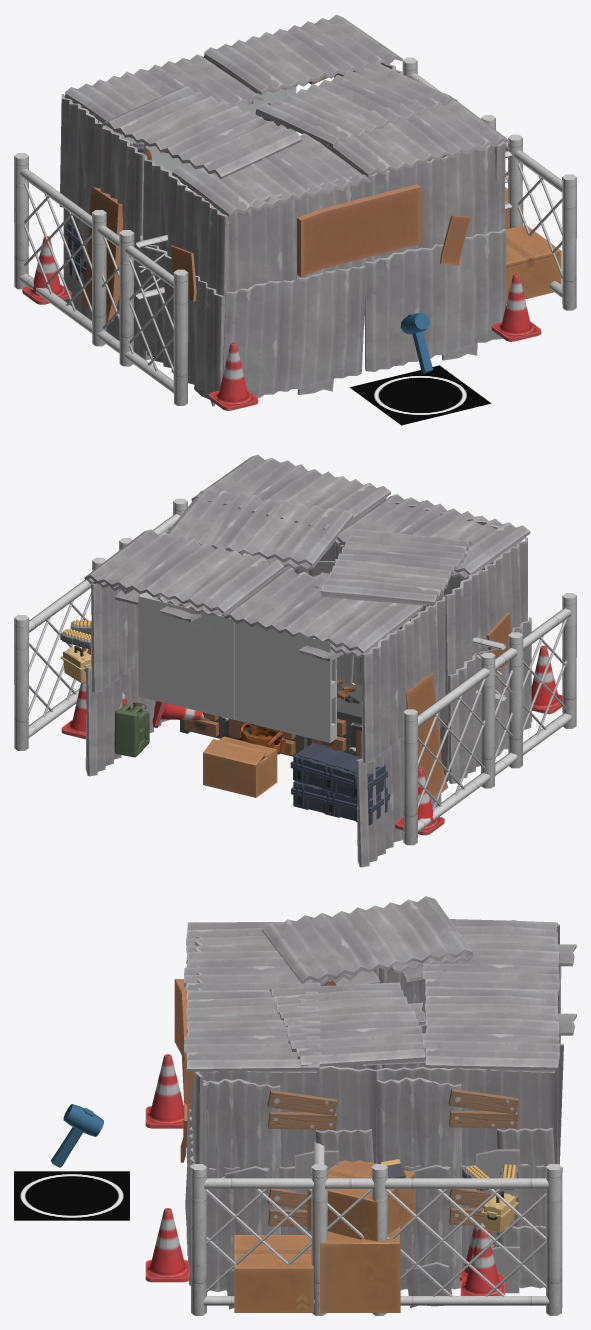
File: Merchant_Weapon.fbx
3 views of the same model, one above another, from view 1: azimuth 30°, elevation 25°; view 2: azimuth 150°, elevation 25°; view 3: azimuth 270°, elevation 25° (orthographic). The views are drawn at different scales.
Visible parts, largest first — view 1: Mat_MetalBoard_01_1, Mat_BarbedWire_01, Mat_PaperBox_02, BuildingInteractRing, Mat_Roadblocks01, Mat_PaperBox_01_01, Mat_PlasticPallet_01, EdgeLight_build, Mat_MetalBoard_01_3, ColorA Smooth; view 2: Mat_MetalBoard_01_1, Mat_BarbedWire_01, Mat_PlasticPallet_01, ColorA Smooth, Mat_PaperBox_01_01, Mat_Roadblocks01, ColorA, Mat_PaperBox_02, Mat_Indoors_Wardrobe_01, Mat_Indoors_Wardrobe_NoWood, Mat_MetalBoard_01_3, Mat_MetalBoard_01_4 (+1 smaller); view 3: Mat_MetalBoard_01_1, Mat_MetalBoard_01_3, Mat_BarbedWire_01, Mat_PaperBox_01_01, Mat_WoodBoards_01_2, Mat_MetalBoard_01_4, Mat_Roadblocks01, BuildingInteractRing, Mat_PaperBox_02, ColorA, EdgeLight_build.
Boxes of the visible parts, left/top/right/bottom form: Mat_MetalBoard_01_1: left=59, top=14, right=509, bottom=406; Mat_BarbedWire_01: left=14, top=57, right=576, bottom=405; Mat_PaperBox_02: left=80, top=184, right=470, bottom=321; BuildingInteractRing: left=350, top=365, right=491, bottom=425; Mat_Roadblocks01: left=22, top=236, right=541, bottom=410; Mat_PaperBox_01_01: left=213, top=187, right=561, bottom=303; Mat_PlasticPallet_01: left=98, top=74, right=296, bottom=171; EdgeLight_build: left=400, top=312, right=433, bottom=373; Mat_MetalBoard_01_3: left=64, top=56, right=505, bottom=359; ColorA Smooth: left=64, top=222, right=86, bottom=282; Mat_MetalBoard_01_1: left=84, top=454, right=532, bottom=867; Mat_BarbedWire_01: left=14, top=498, right=576, bottom=845; Mat_PlasticPallet_01: left=138, top=592, right=336, bottom=742; ColorA Smooth: left=290, top=743, right=389, bottom=825; Mat_PaperBox_01_01: left=82, top=634, right=277, bottom=797; Mat_Roadblocks01: left=61, top=645, right=562, bottom=835; ColorA: left=60, top=621, right=355, bottom=757; Mat_PaperBox_02: left=406, top=612, right=512, bottom=800; Mat_Indoors_Wardrobe_01: left=184, top=712, right=362, bottom=758; Mat_Indoors_Wardrobe_NoWood: left=180, top=682, right=448, bottom=781; Mat_MetalBoard_01_3: left=160, top=497, right=525, bottom=707; Mat_MetalBoard_01_4: left=85, top=539, right=449, bottom=863; Mat_MetalBoard_01_1: left=184, top=896, right=576, bottom=1309; Mat_MetalBoard_01_3: left=202, top=931, right=558, bottom=1291; Mat_BarbedWire_01: left=190, top=966, right=562, bottom=1315; Mat_PaperBox_01_01: left=234, top=1160, right=415, bottom=1312; Mat_WoodBoards_01_2: left=267, top=979, right=518, bottom=1226; Mat_MetalBoard_01_4: left=251, top=973, right=558, bottom=1287; Mat_Roadblocks01: left=145, top=1054, right=504, bottom=1295; BuildingInteractRing: left=14, top=1171, right=129, bottom=1220; Mat_PaperBox_02: left=174, top=979, right=192, bottom=1162; ColorA: left=380, top=1159, right=518, bottom=1232; EdgeLight_build: left=51, top=1104, right=103, bottom=1167.
Size of the model in its own units: 6.5 by 3.75 by 6.99.
Materials: 19 (19 with a texture image).
